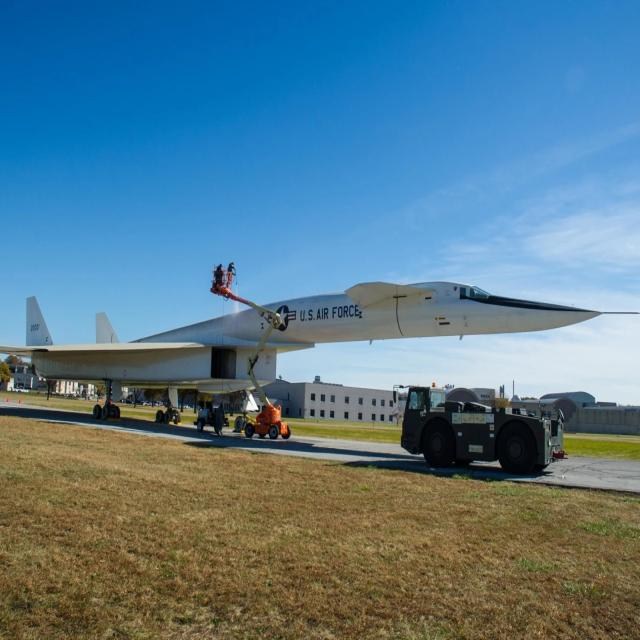MIL_Plane: (0, 281, 640, 432)
